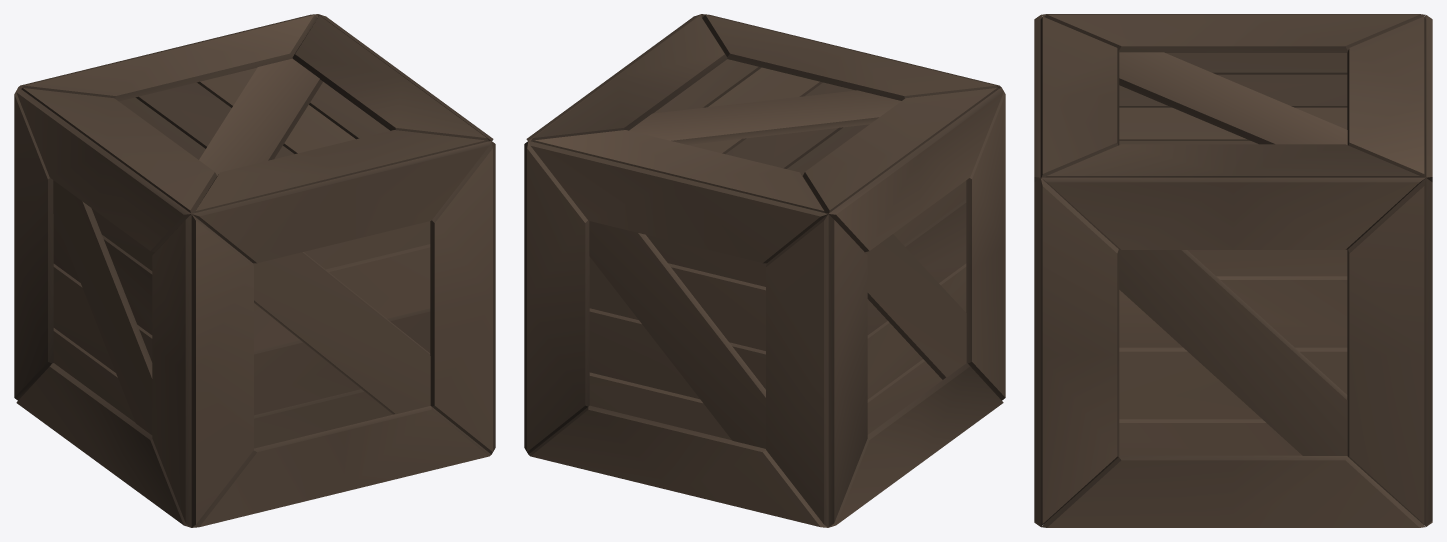
The model's file is human-containers-wooden-crate_v1.glb.
3 views of the same model, side by side, from view 1: azimuth 30°, elevation 25°; view 2: azimuth 150°, elevation 25°; view 3: azimuth 270°, elevation 25° (orthographic). The views are drawn at different scales.
Parts seen in each view (by area): view 1: Wooden Crate_v1; view 2: Wooden Crate_v1; view 3: Wooden Crate_v1.
Part boxes in pixels (<box>): Wooden Crate_v1: <box>14,14,495,527</box>; Wooden Crate_v1: <box>524,14,1005,527</box>; Wooden Crate_v1: <box>1034,14,1432,527</box>.
Bounding box in the file's own units: 0.5998 × 0.5828 × 0.6.
